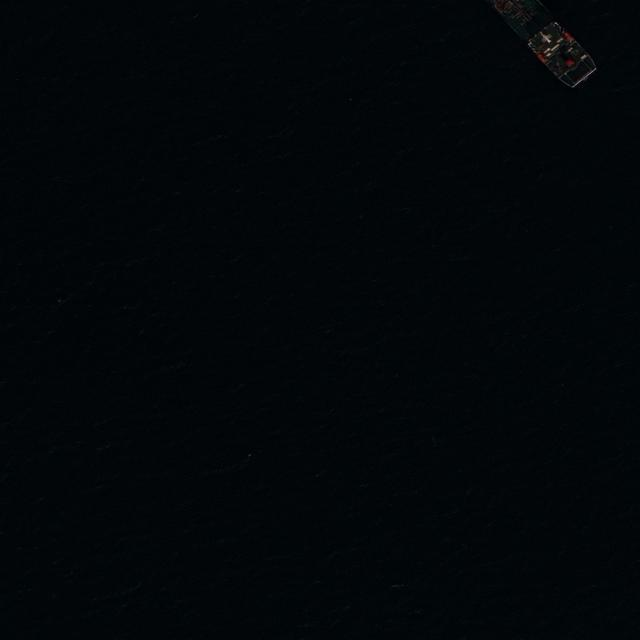Oil Tanker: (489, 2, 604, 87)
